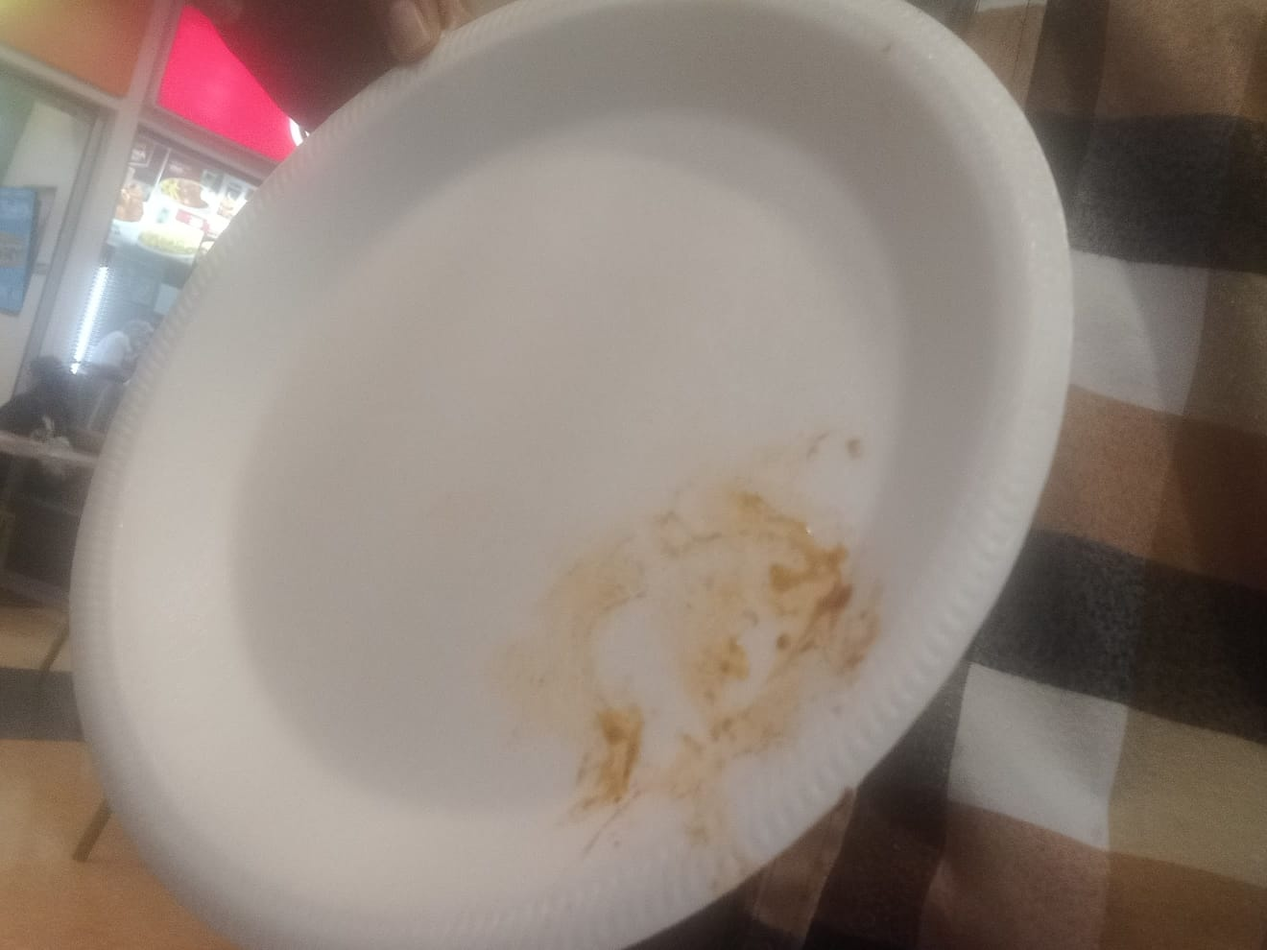Ordinario: (73, 5, 1074, 950)
